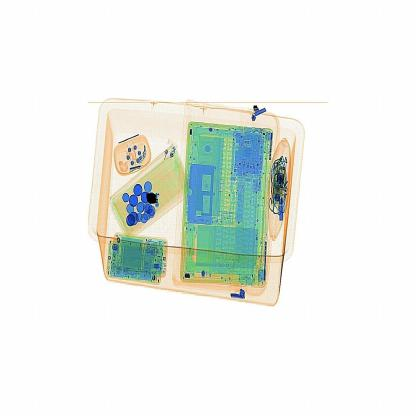scissors: (139, 183, 171, 215)
